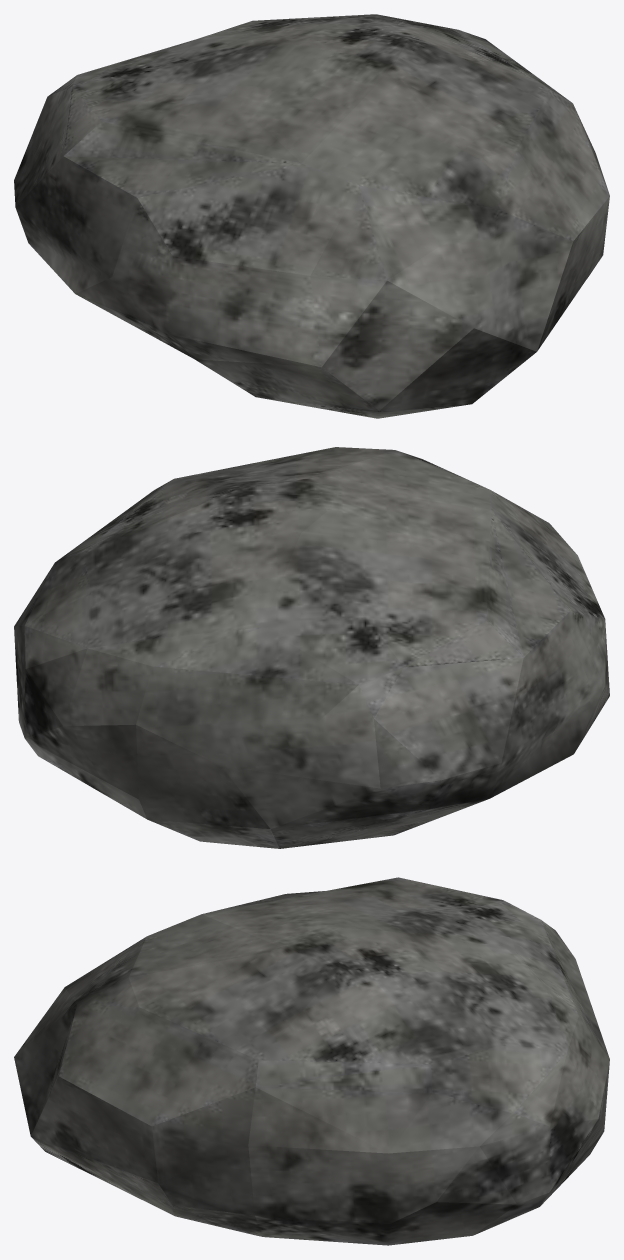
File: Marble2_LOD0.FBX
3 views of the same model, one above another, from view 1: azimuth 30°, elevation 25°; view 2: azimuth 150°, elevation 25°; view 3: azimuth 270°, elevation 25° (orthographic). The views are drawn at different scales.
Parts seen in each view (by area): view 1: Marble2; view 2: Marble2; view 3: Marble2.
Part boxes in pixels (x1,y1,x2,y2): Marble2: (14, 14, 609, 418); Marble2: (14, 447, 609, 848); Marble2: (14, 877, 609, 1245).
Size of the model in its own units: 25.35 by 13.83 by 27.77.
1 material, 1 textured.
